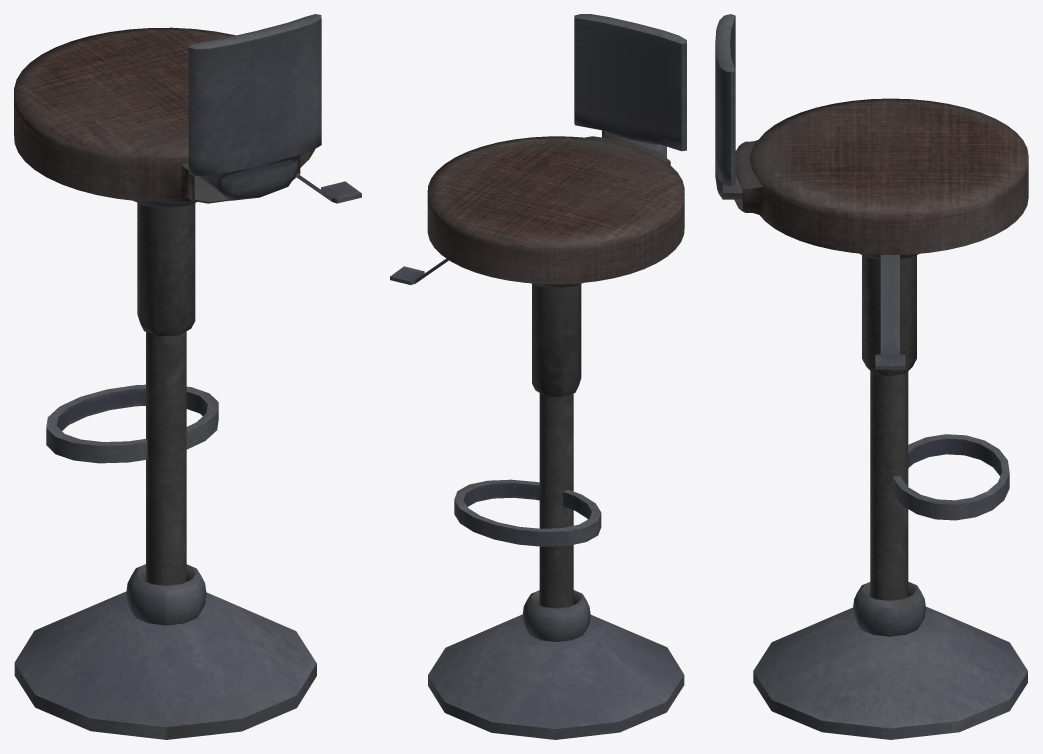
File: Bar stool.FBX
3 renders of one model, left to right at view 1: azimuth 30°, elevation 25°; view 2: azimuth 150°, elevation 25°; view 3: azimuth 270°, elevation 25°, orthographic. The views are drawn at different scales.
Visible parts, largest first — view 1: Bar stool top piece, Bar stool; view 2: Bar stool top piece, Bar stool; view 3: Bar stool top piece, Bar stool.
Boxes of the visible parts, x1,y1,x2,y2 form: Bar stool top piece: (14,14,361,336); Bar stool: (14,331,316,739); Bar stool top piece: (390,14,686,396); Bar stool: (428,393,684,739); Bar stool top piece: (715,14,1028,376); Bar stool: (753,371,1027,739).
Size of the model in its own units: 0.5404 by 1.15 by 0.51.
1 material, 1 textured.
